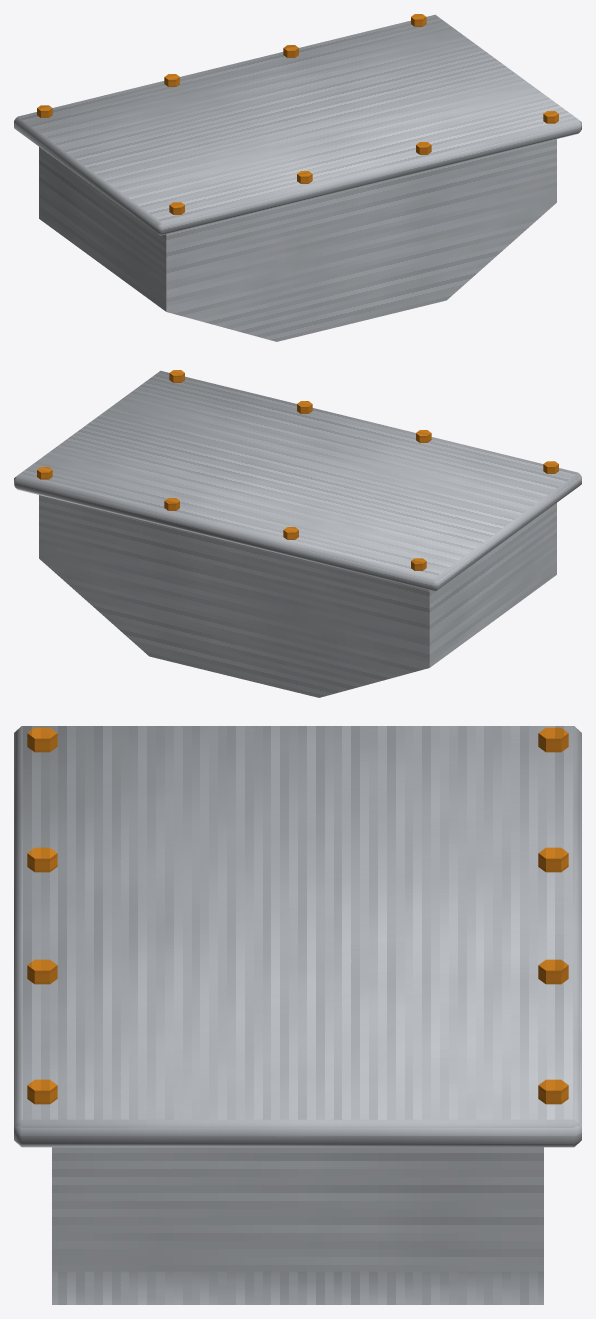
The model's file is carter_n3.glb.
3 renders of one model, top to bottom at view 1: azimuth 30°, elevation 25°; view 2: azimuth 150°, elevation 25°; view 3: azimuth 270°, elevation 25°, orthographic. The views are drawn at different scales.
Parts seen in each view (by area): view 1: carter_n3; view 2: carter_n3; view 3: carter_n3.
Boxes of the visible parts, <box> form: carter_n3: <box>14,14,581,341</box>; carter_n3: <box>14,370,581,697</box>; carter_n3: <box>14,726,581,1304</box>.
Bounding box in the file's own units: 0.5 × 0.194 × 0.3.
1 material, 1 textured.
